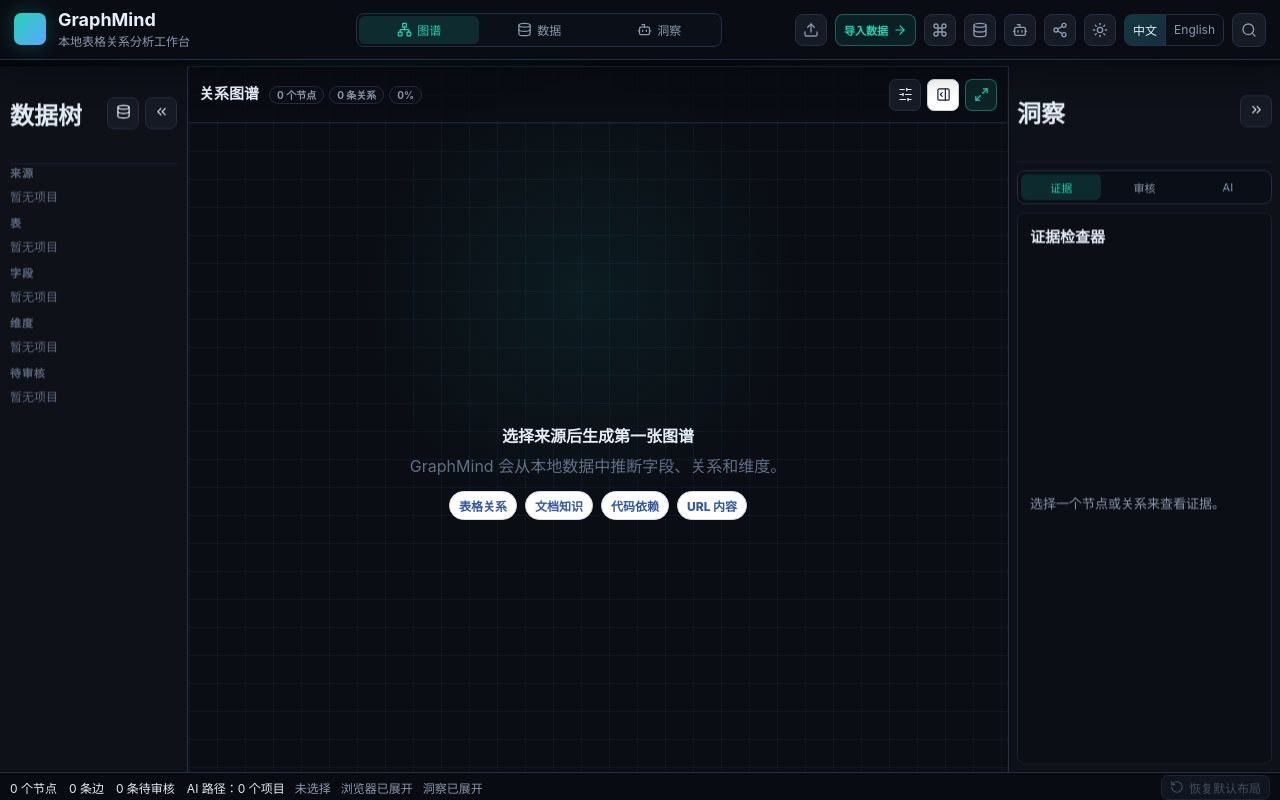
Test: App relationship review wiring › submits chat questions and renders cited answers
Expected: the button named "搜索" is shown, [1232,12,1266,46]
Step 1. Click the tab "AI" → [1228, 187], box [1188,174,1268,200]
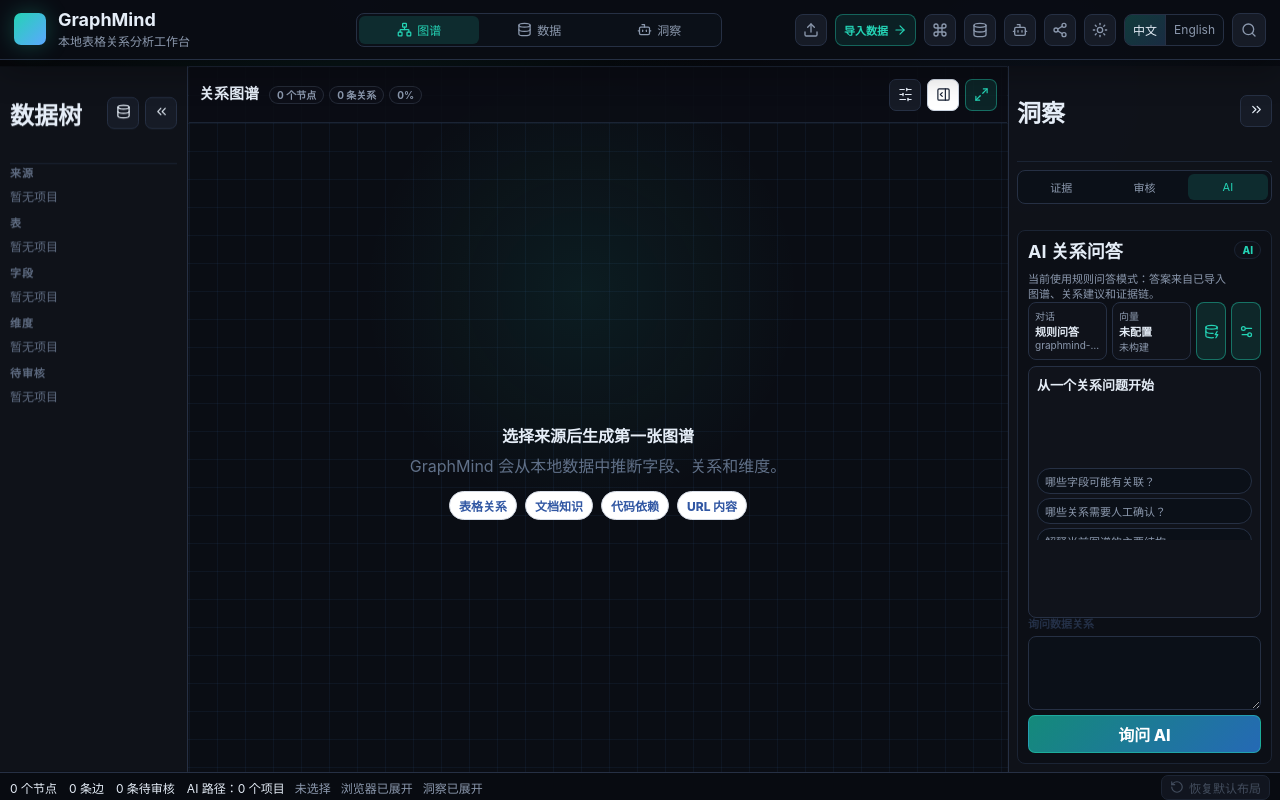
Result: the heading "AI 关系问答" is shown at [1028,241,1123,262]
Step 2. Type "What fields are in Orders?" into the text box labelled "询问数据关系" → [1144, 673], box [1028,636,1261,710]
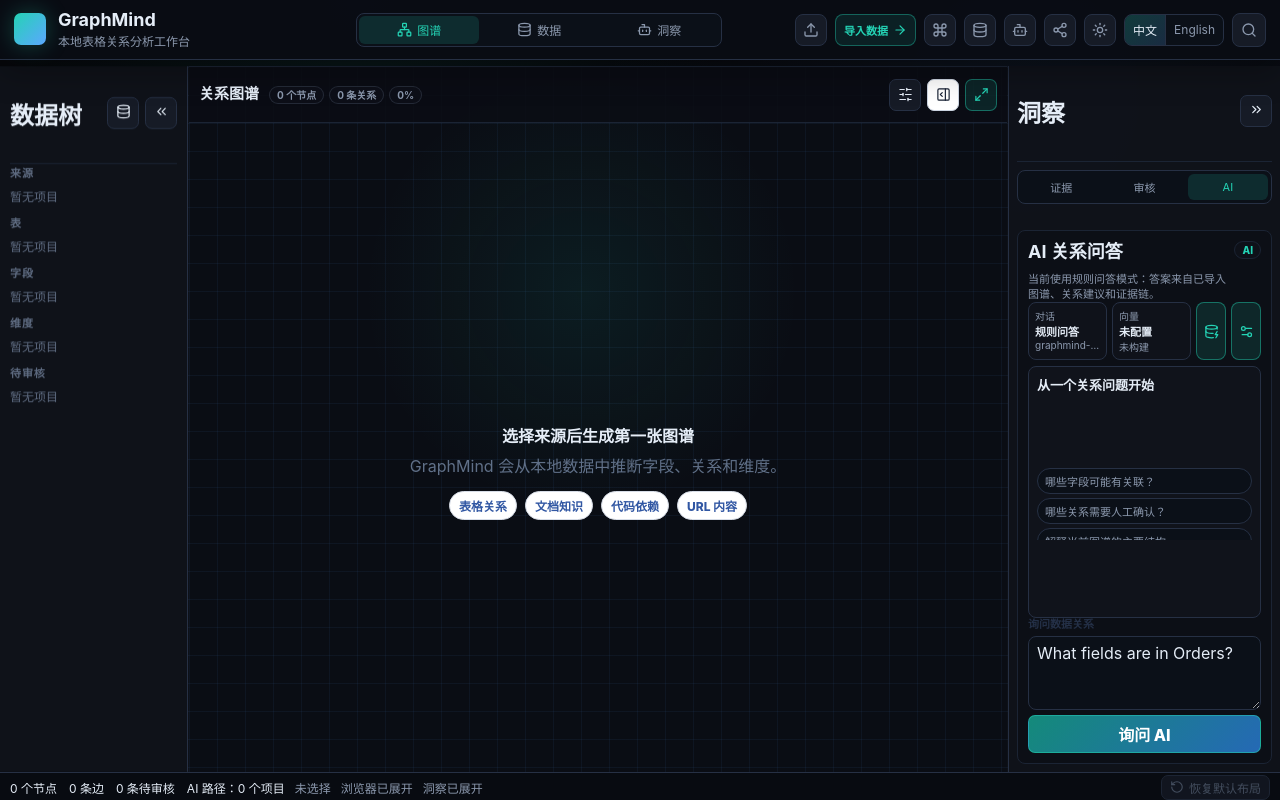
Step 3. Click the button "询问 AI" → [1144, 734], box [1028,715,1261,753]
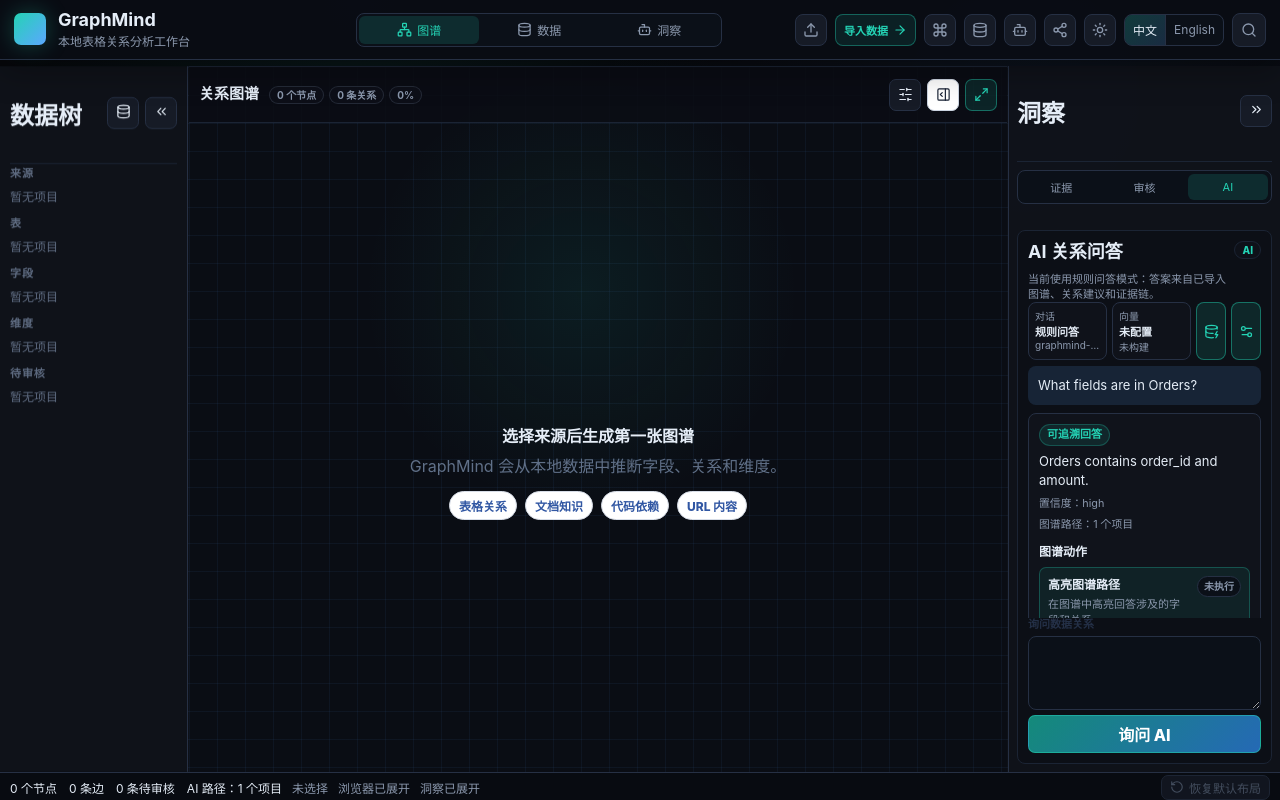
Result: the text "Orders contains order_id and amount." is shown at [1039,453,1217,488]
